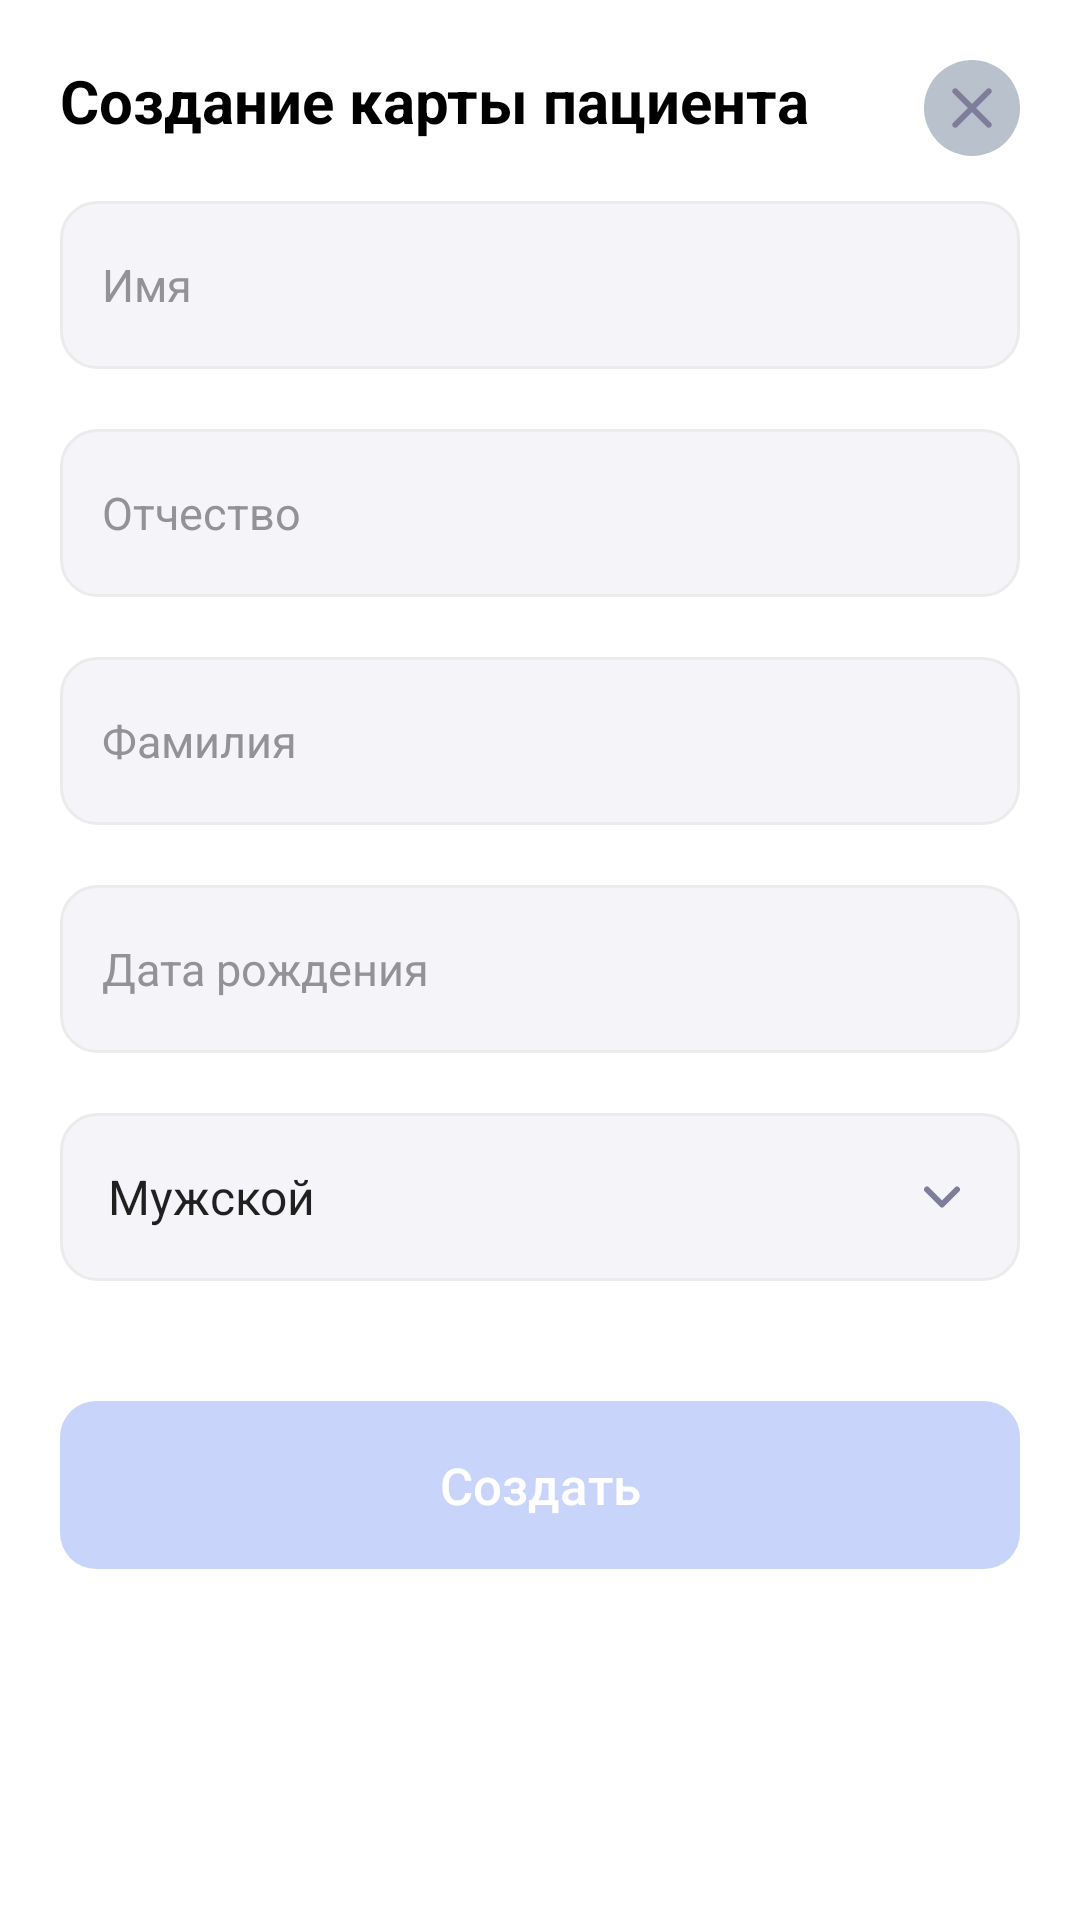

Icons on this 1080×1920 Android screen, each with its box as (x1, y1, x2, y2):
close: (924, 60, 1020, 156)
drop down: (924, 1186, 960, 1208)
